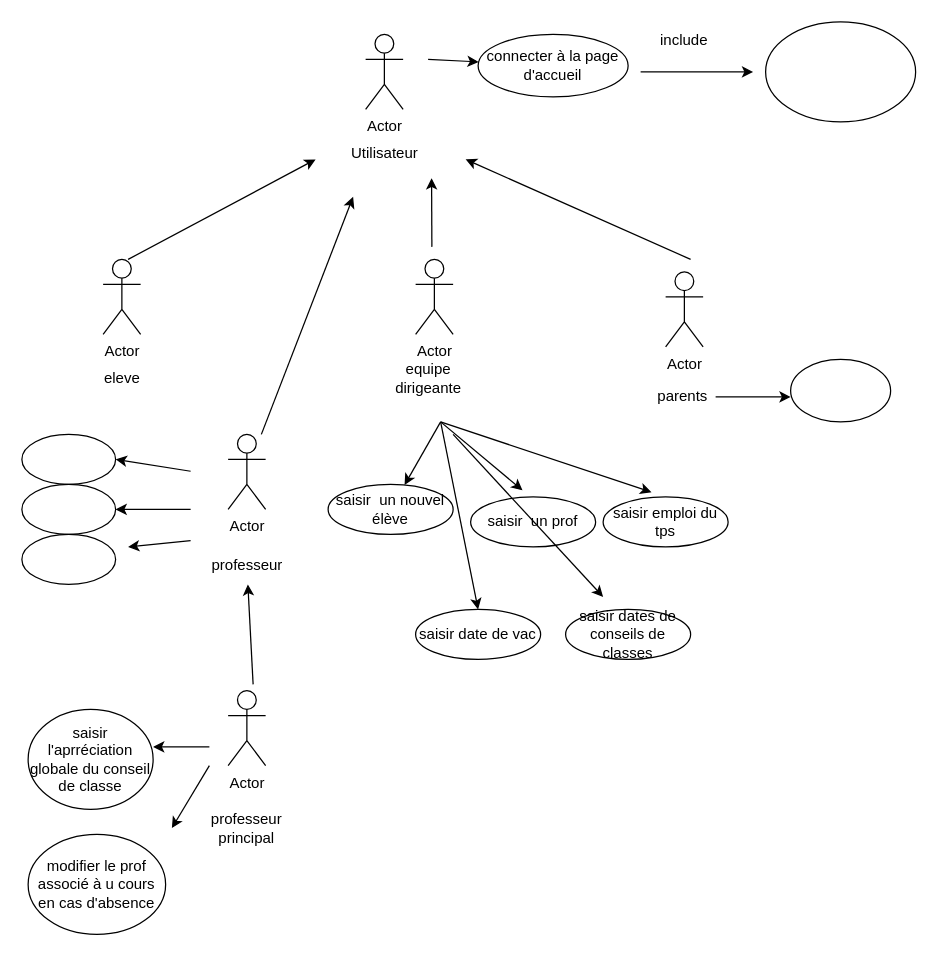
Some shapes in this 938 by 956 pixel diagram are drawn without their labels. Each missing label, with the centre of its shape:
"consulter les notes" belongs at point (840, 390).
"Lister les notes" belongs at point (68, 458).
"s'authentifier" belongs at point (840, 71).
"saisir une appréciation" belongs at point (68, 558).
"saisir une note" belongs at point (68, 508).
